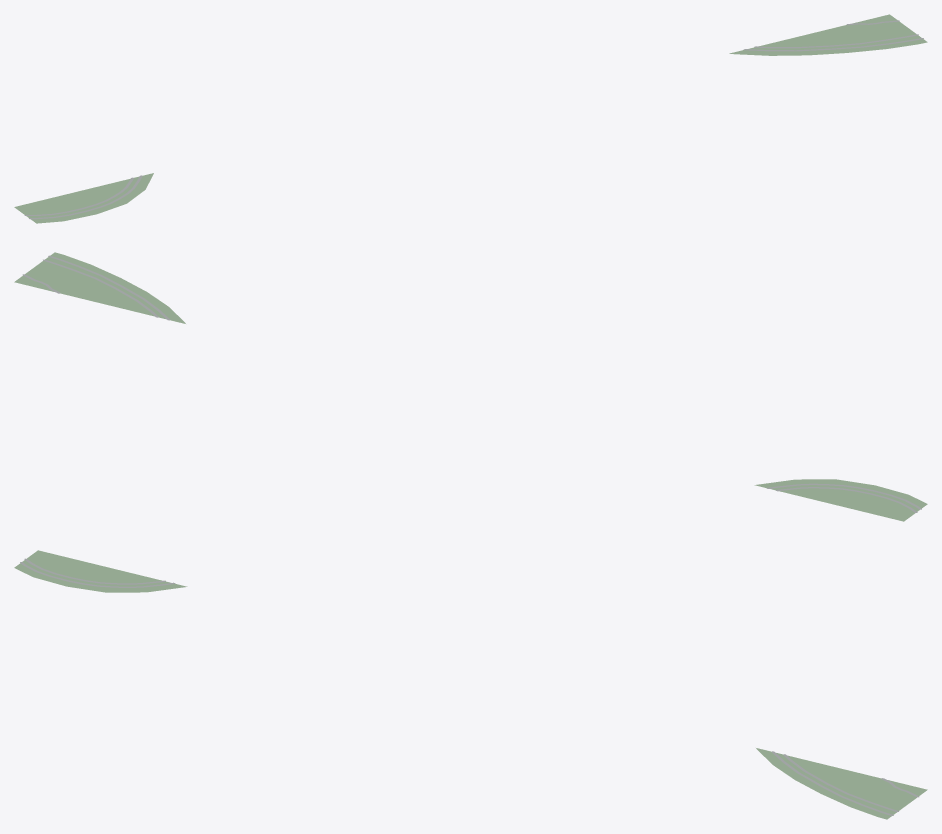
Rendered from -6_-2-known-coarse.glb.
3 views of the same model, one above another, from view 1: azimuth 30°, elevation 25°; view 2: azimuth 150°, elevation 25°; view 3: azimuth 330°, elevation 25° (orthographic). The views are drawn at different scales.
Bounding box in the file's own units: 1003 × 0.1 × 122.
